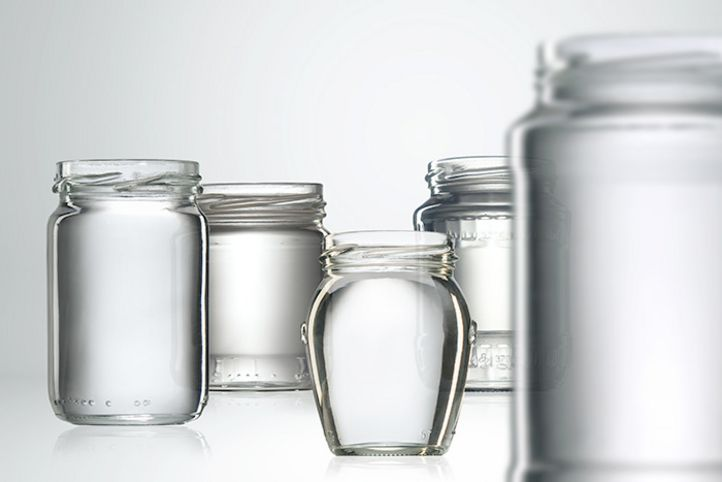glass_bottle: (43, 154, 212, 430), (300, 228, 480, 462)
